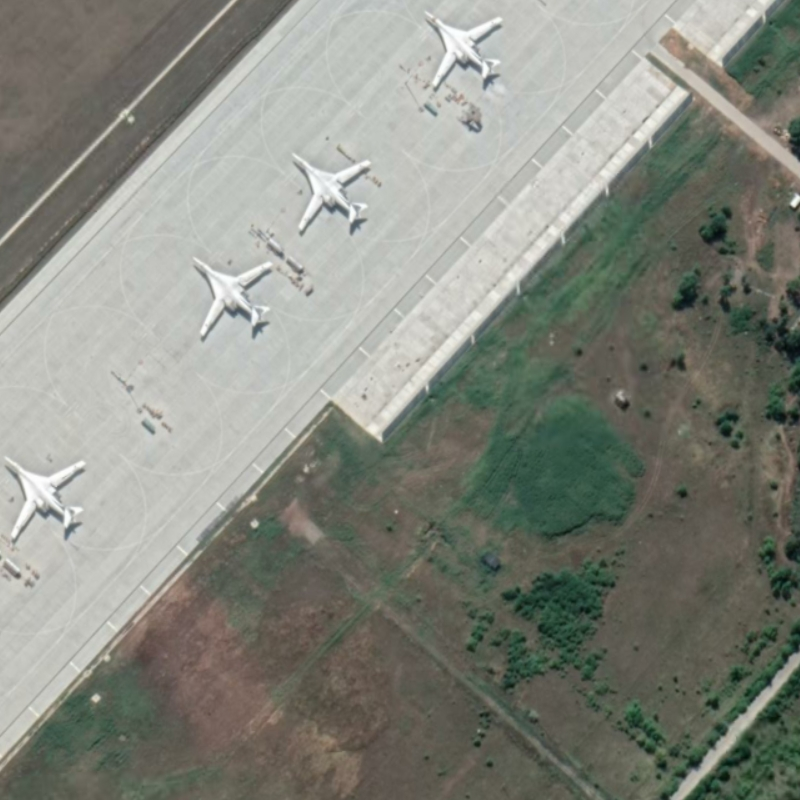A6: (2, 448, 92, 547), (418, 4, 510, 92), (190, 253, 277, 343), (287, 149, 376, 236)
